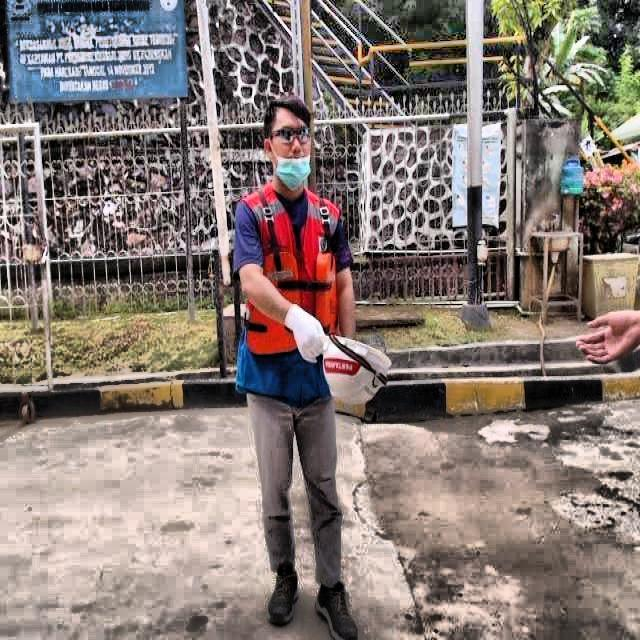safety_helmet: (321, 330, 396, 407)
safety_jacket: (234, 185, 345, 410)
